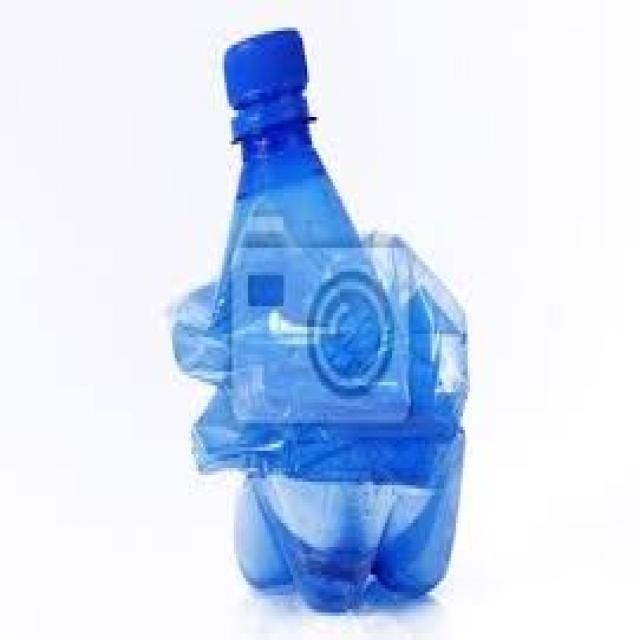Botella Plastica: (173, 25, 470, 624)
